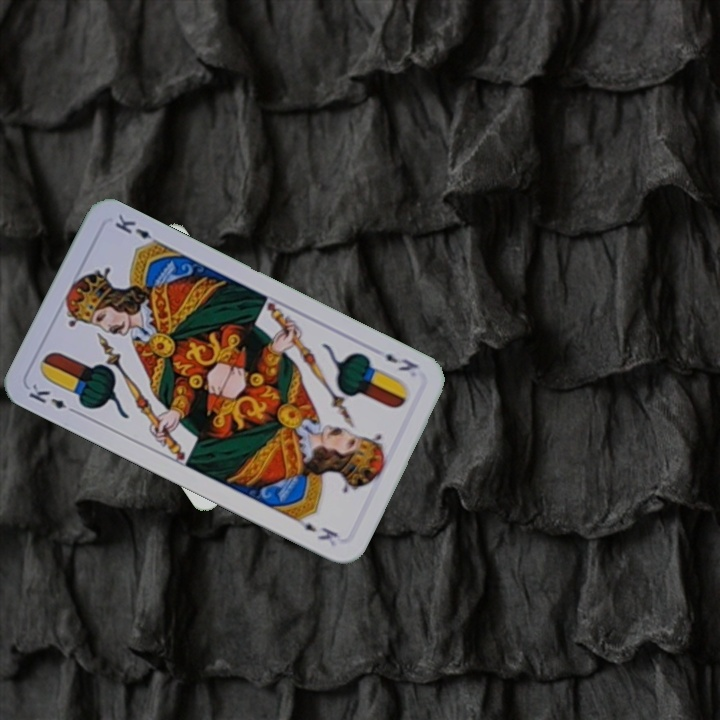EK: (24, 380, 81, 417), (381, 349, 421, 374)
